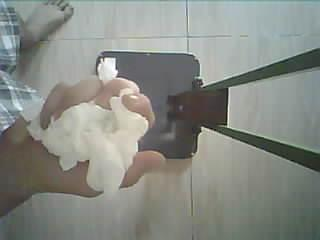paper: (22, 90, 149, 191), (97, 57, 118, 84)
